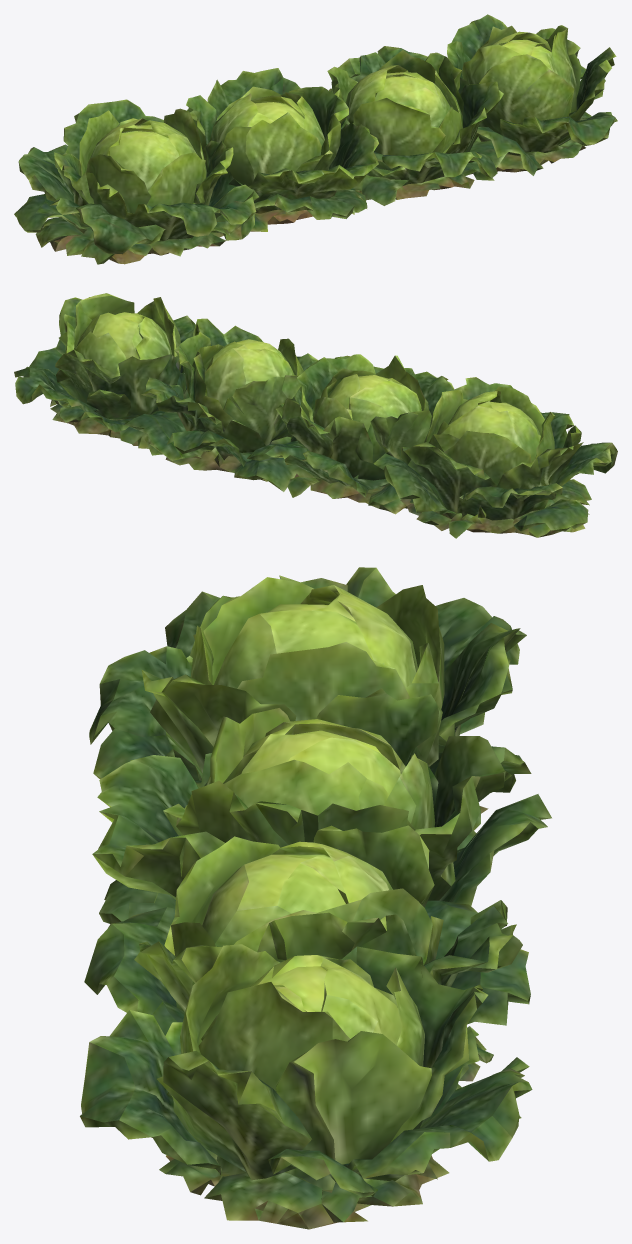
The model's file is crop_cabbage_lite.glb.
The picture shows the model from 3 angles, top to bottom: view 1: azimuth 30°, elevation 25°; view 2: azimuth 150°, elevation 25°; view 3: azimuth 270°, elevation 25°; orthographic projection. The views are drawn at different scales.
Parts seen in each view (by area): view 1: geometry_0; view 2: geometry_0; view 3: geometry_0.
Boxes of the visible parts, x1,y1,x2,y2 form: geometry_0: (14,14,617,264); geometry_0: (14,293,617,538); geometry_0: (80,567,551,1229).
Bounding box in the file's own units: 1.9 × 0.3391 × 0.69.
Materials: 1 (1 with a texture image).
